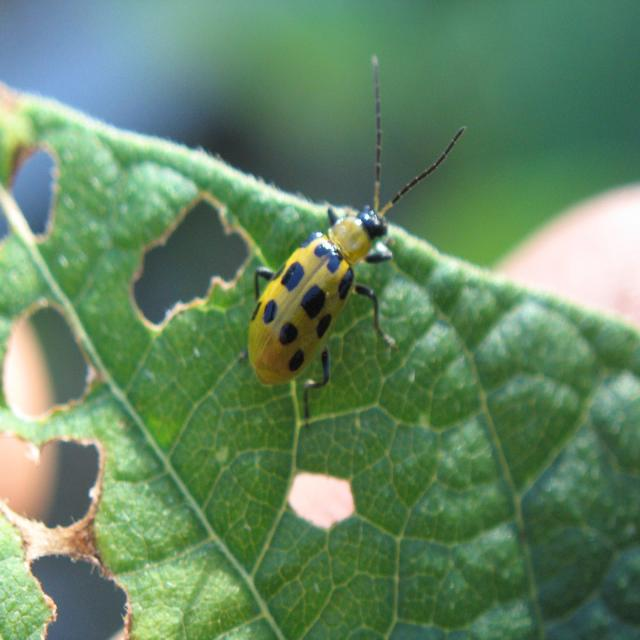cucumber_beetle: (238, 38, 471, 427)
